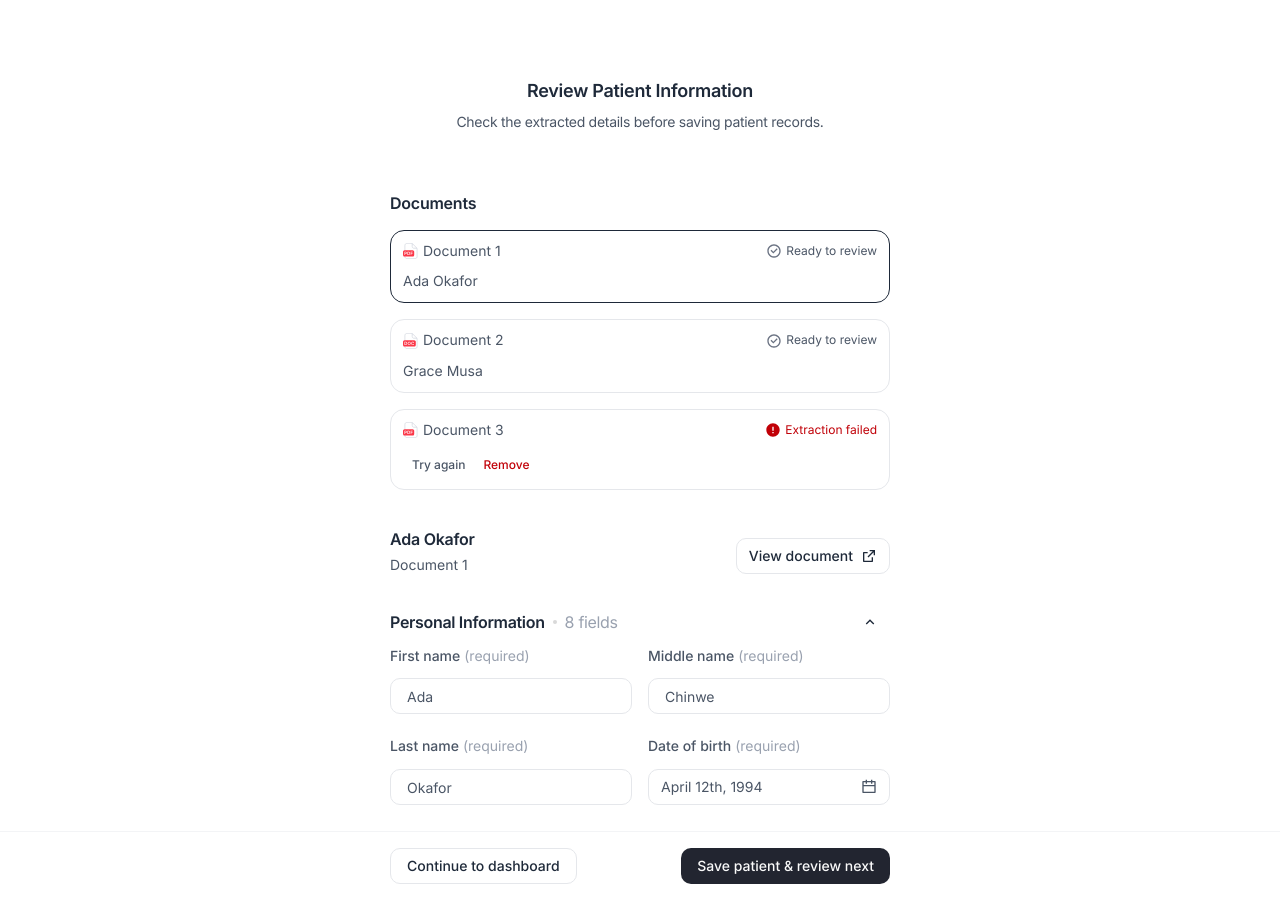
keeps the document and shows the error when removing it fails
Click the button with aria-label "Remove Document 3" at [506, 465], box x1=474 y1=453 x2=538 y2=477
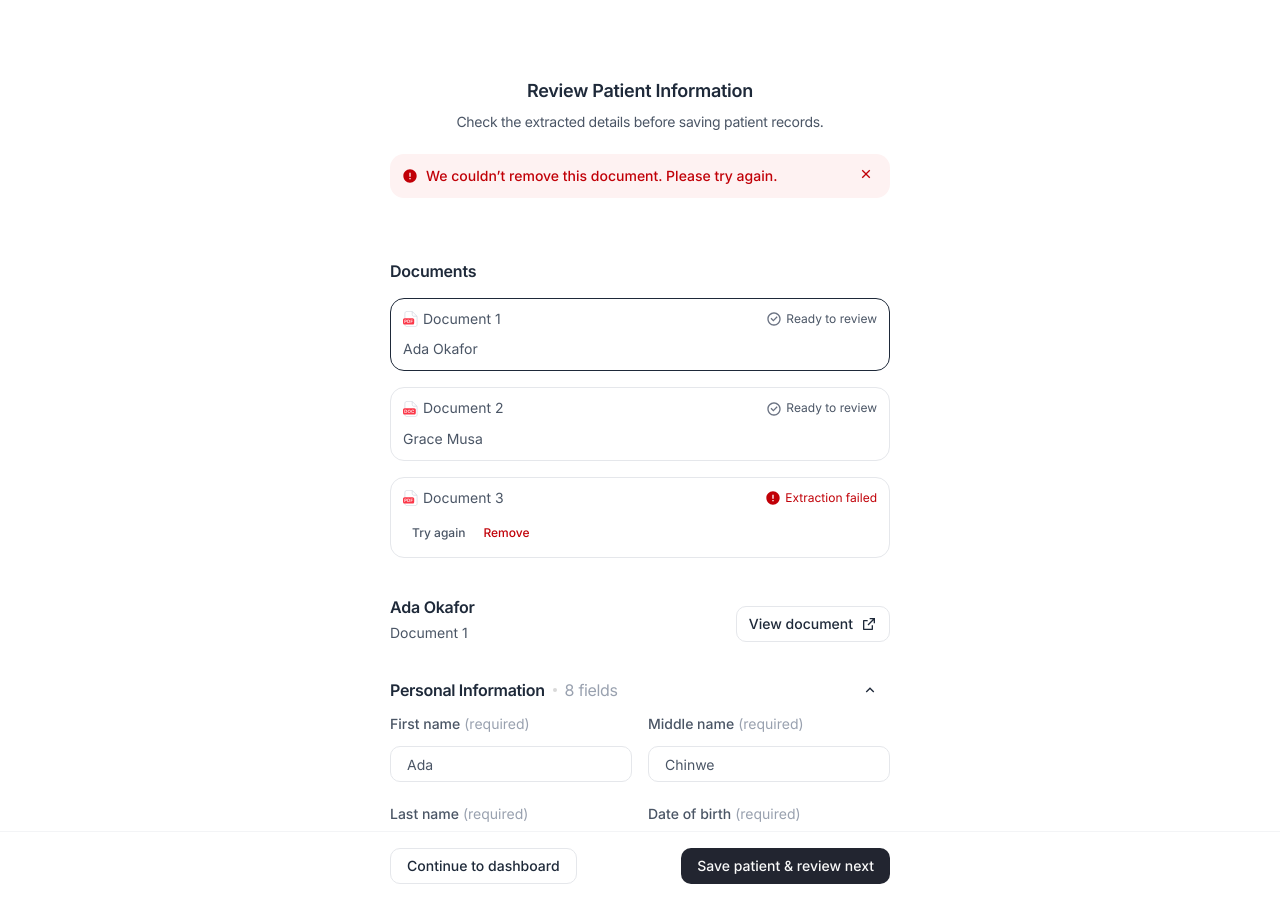
expect the element "Document 3" is shown: met, box x1=390 y1=477 x2=890 y2=558
expect the message reads "We couldn’t remove this document. Please try again.": met, box x1=426 y1=167 x2=777 y2=184
